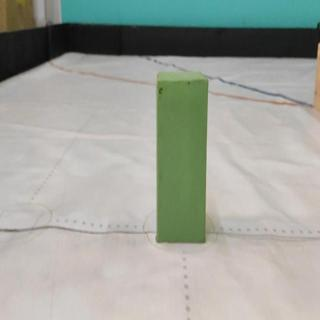greenbox: (155, 73, 206, 244)
